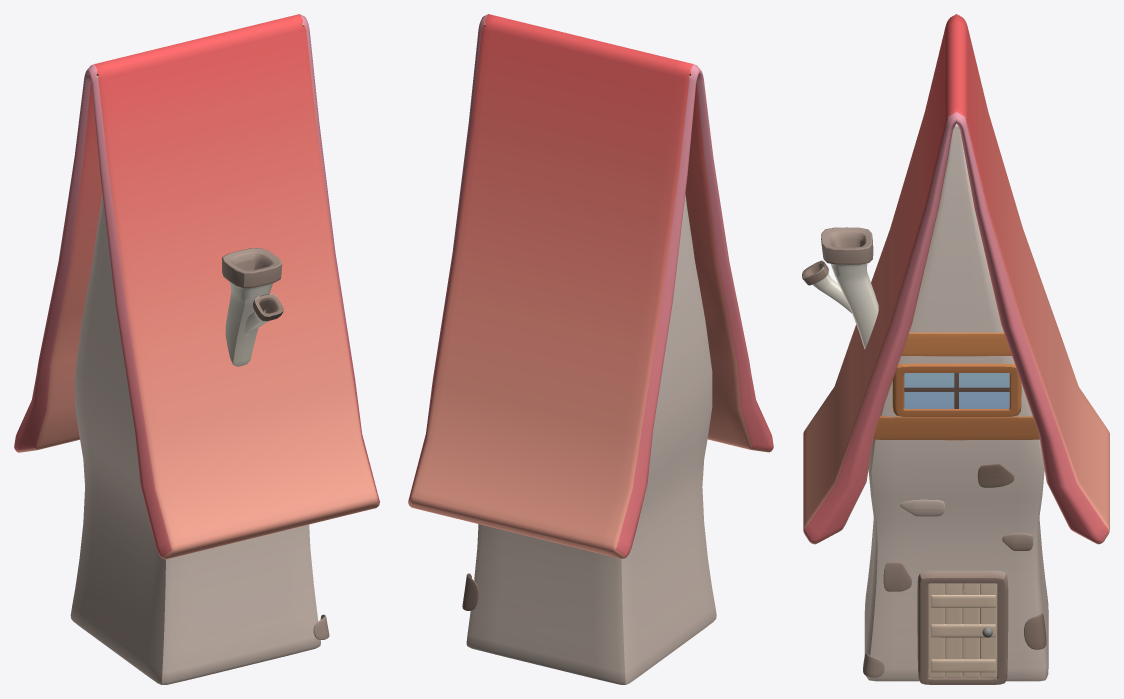
Rendered from Huisjes red roof.fbx.
3 renders of one model, left to right at view 1: azimuth 30°, elevation 25°; view 2: azimuth 150°, elevation 25°; view 3: azimuth 270°, elevation 25°, orthographic. The views are drawn at different scales.
Parts seen in each view (by area): view 1: Cube.002, Cube, Cube.008, Cube.009; view 2: Cube.002, Cube; view 3: Cube.002, Cube, Cylinder.025, Cylinder.026, Cube.008, Cube.036, Cylinder.033, Cylinder.027, Cube.011, Cube.009, Cylinder.024, Cylinder.023 (+7 smaller).
Boxes of the visible parts, bbox=[...] form: Cube.002: bbox=[14, 14, 379, 559]; Cube: bbox=[70, 193, 320, 684]; Cube.008: bbox=[222, 248, 282, 366]; Cube.009: bbox=[244, 294, 283, 335]; Cube.002: bbox=[408, 14, 773, 558]; Cube: bbox=[466, 194, 716, 684]; Cube.002: bbox=[803, 14, 1109, 544]; Cube: bbox=[864, 124, 1048, 681]; Cylinder.025: bbox=[928, 583, 997, 677]; Cylinder.026: bbox=[917, 570, 1008, 684]; Cube.008: bbox=[821, 227, 878, 348]; Cube.036: bbox=[873, 416, 1039, 440]; Cylinder.033: bbox=[904, 373, 1009, 408]; Cylinder.027: bbox=[892, 363, 1021, 416]; Cube.011: bbox=[901, 332, 1011, 356]; Cube.009: bbox=[802, 260, 851, 313]; Cylinder.024: bbox=[930, 659, 996, 672]; Cylinder.023: bbox=[930, 594, 996, 607].
Bounding box in the file's own units: 266 × 692 × 331.
